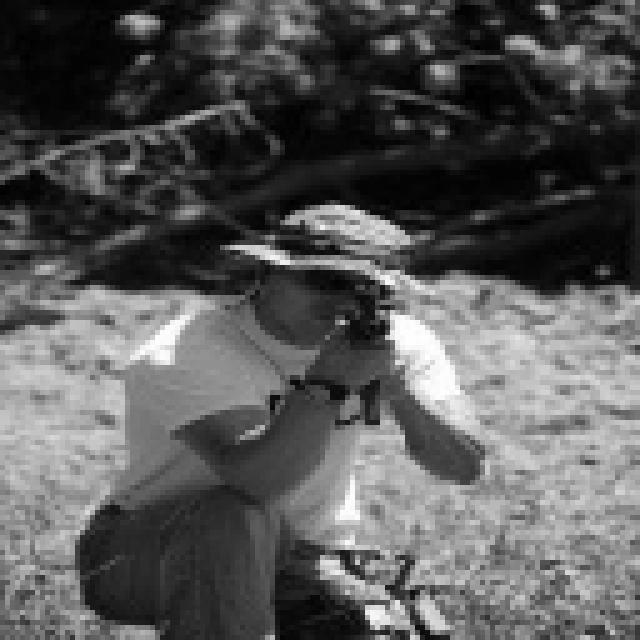Rifle: (328, 256, 417, 450)
